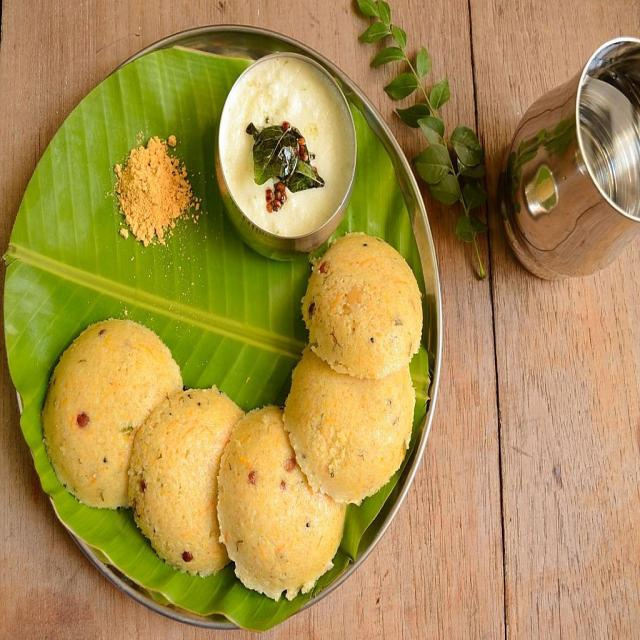rave idli: (39, 305, 182, 523), (215, 404, 347, 606), (128, 378, 238, 582), (289, 346, 423, 497), (303, 230, 426, 386)
